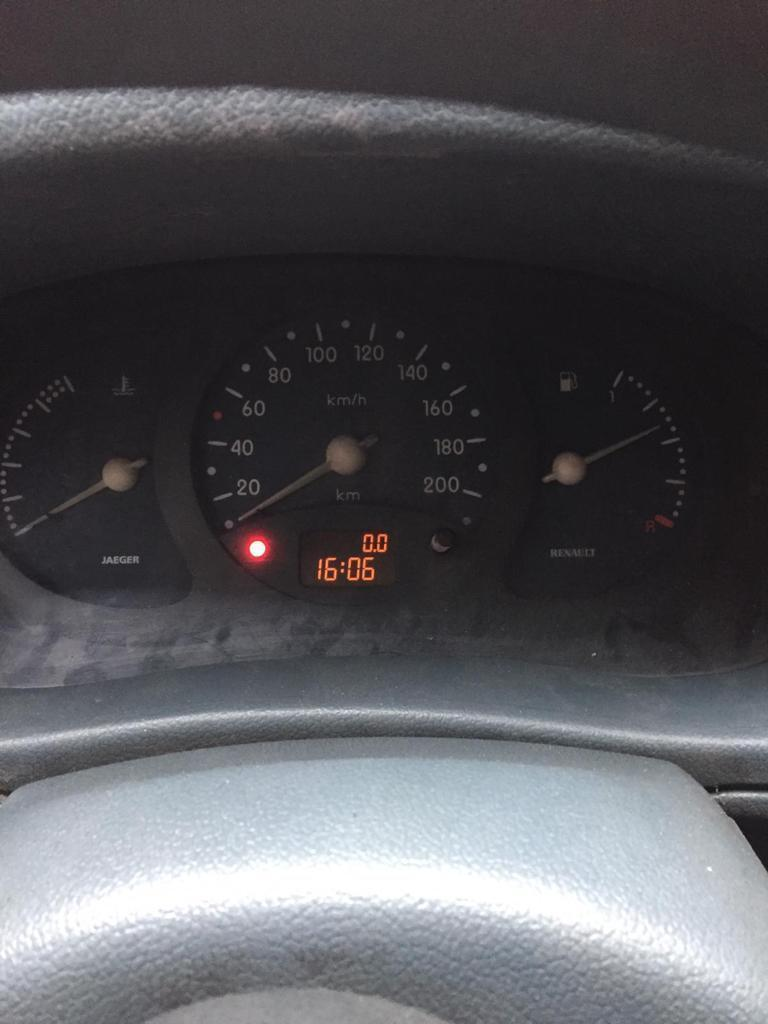,: (372, 547, 376, 553)
0: (347, 555, 360, 581), (362, 532, 372, 553), (377, 533, 387, 552)
1: (317, 556, 322, 581)
6: (324, 556, 337, 582), (362, 555, 375, 581)
X: (339, 560, 344, 575)
odometer: (296, 527, 399, 587)
